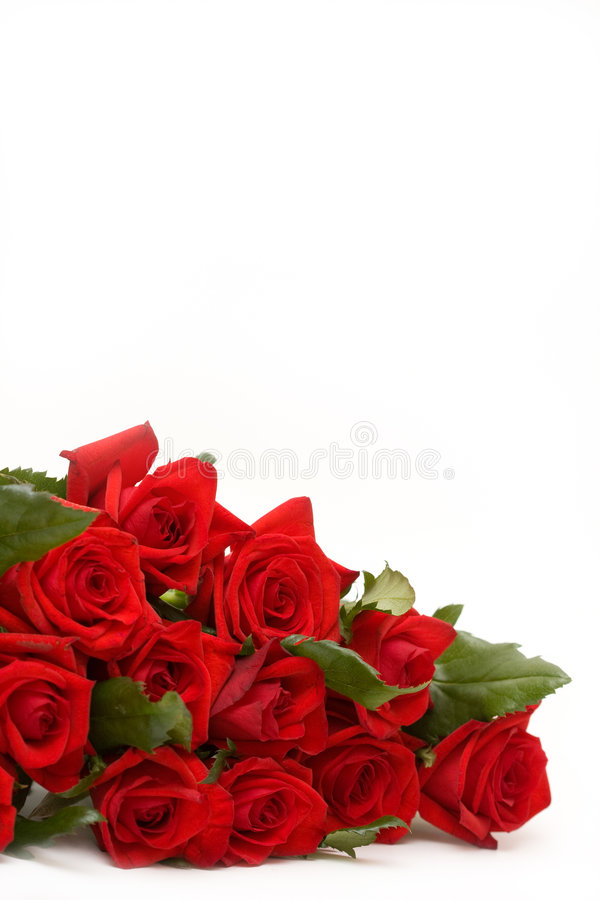RedRose: (18, 544, 171, 655), (217, 513, 359, 625), (117, 749, 217, 872), (204, 767, 339, 858), (0, 655, 90, 791), (344, 605, 438, 730), (66, 415, 175, 518), (438, 725, 525, 841), (130, 483, 239, 575), (232, 651, 324, 751), (132, 618, 213, 730), (337, 743, 418, 841)
